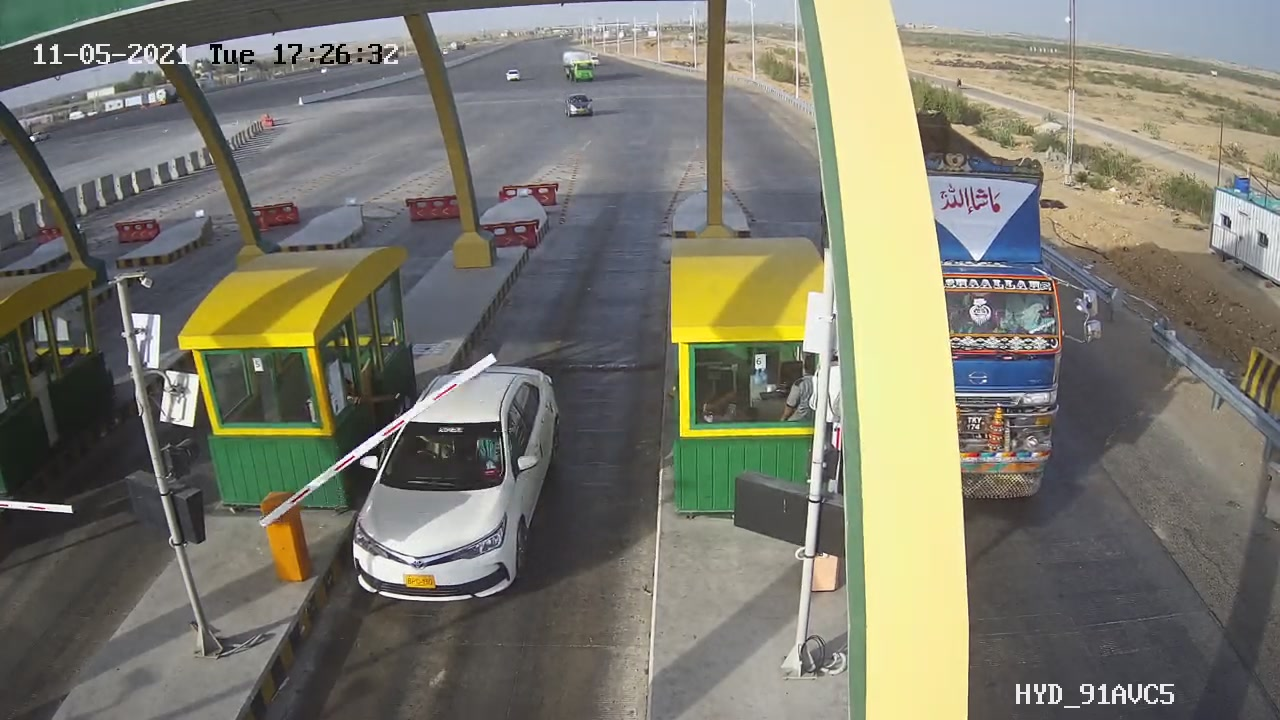F1: (333, 351, 578, 620)
